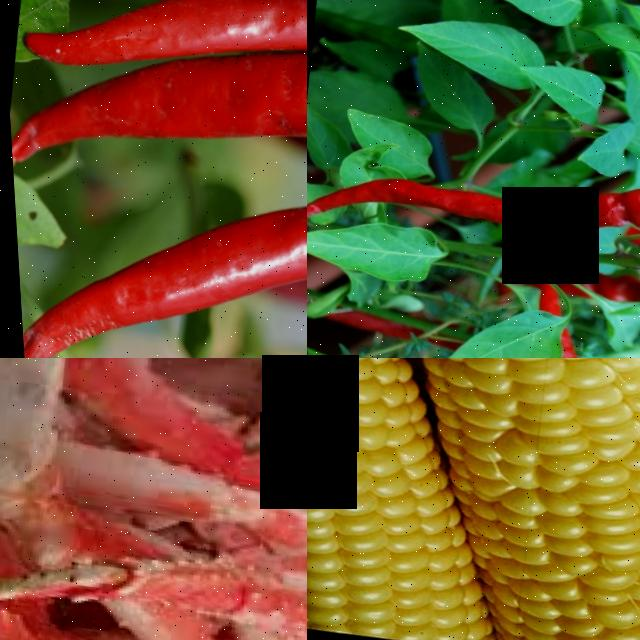chilli: (7, 133, 307, 358), (47, 17, 307, 182), (314, 139, 640, 264), (72, 0, 307, 87)
corn: (372, 358, 640, 640), (307, 358, 454, 640)
crab: (0, 358, 307, 640), (0, 568, 307, 640)
